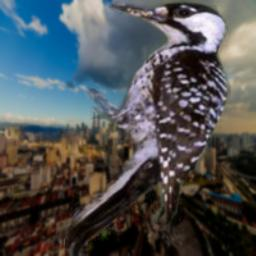Woodpecker: (65, 0, 231, 256)
